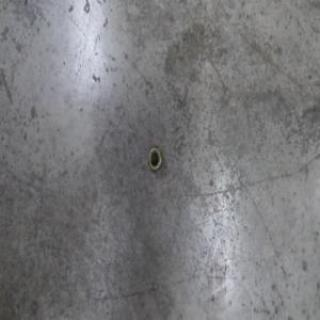Nuttrack_idkeyframe: (146, 143, 162, 173)
